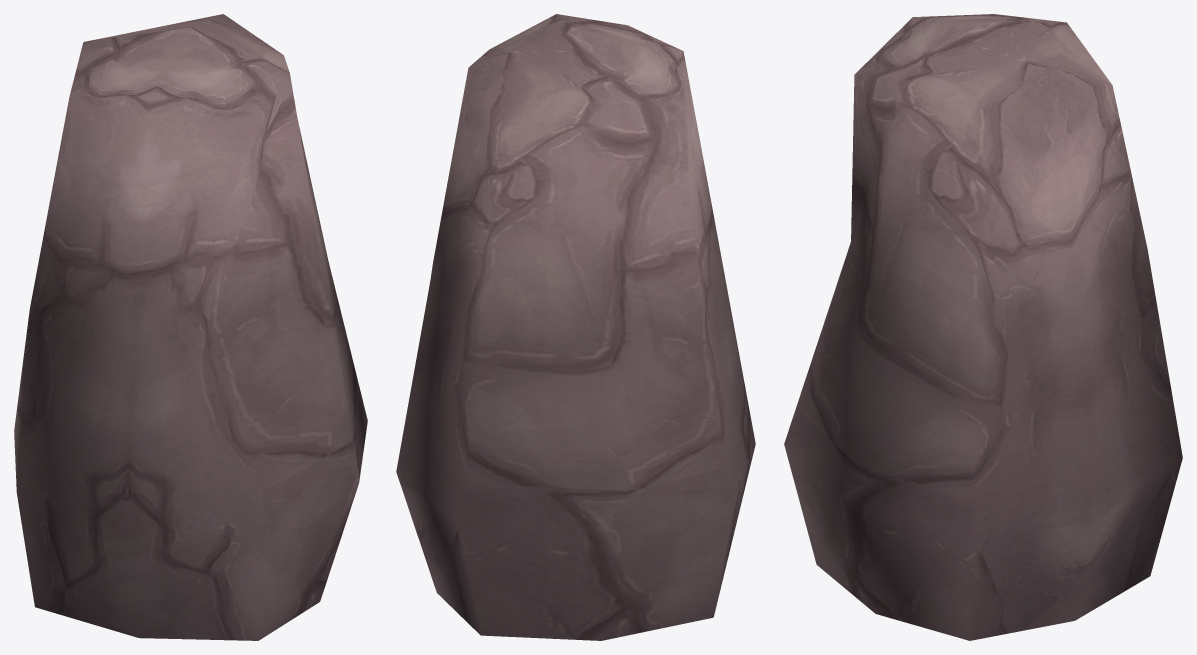
File: rock_04.fbx
3 renders of one model, left to right at view 1: azimuth 30°, elevation 25°; view 2: azimuth 150°, elevation 25°; view 3: azimuth 270°, elevation 25°, orthographic.
Visible parts, largest first — view 1: rock_04; view 2: rock_04; view 3: rock_04.
Part boxes in pixels (x1,y1,x2,y2): rock_04: (14,14,367,640); rock_04: (396,14,755,640); rock_04: (784,14,1182,640).
Bounding box in the file's own units: 3.28 × 5.22 × 3.37.
